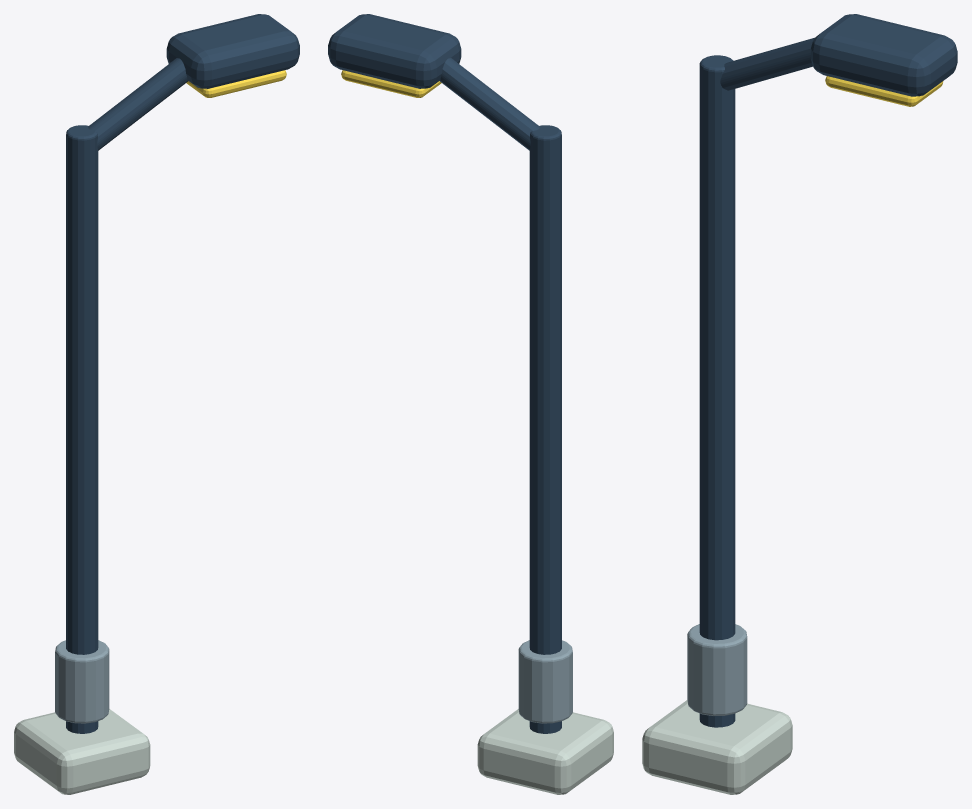
Rendered from SM_Streetlight.fbx.
The picture shows the model from 3 angles, left to right: view 1: azimuth 30°, elevation 25°; view 2: azimuth 150°, elevation 25°; view 3: azimuth 330°, elevation 25°; orthographic projection. The views are drawn at different scales.
Parts seen in each view (by area): view 1: Lamp post, Lamp base, Lamp housing, Post collar, Curved lamp arm, Warm lamp diffuser; view 2: Lamp post, Lamp base, Lamp housing, Post collar, Curved lamp arm, Warm lamp diffuser; view 3: Lamp post, Lamp base, Lamp housing, Post collar, Curved lamp arm, Warm lamp diffuser.
Boxes of the visible parts, x1,y1,x2,y2 form: Lamp post: [66, 125, 98, 733]; Lamp base: [14, 709, 150, 794]; Lamp housing: [166, 14, 299, 88]; Post collar: [55, 640, 109, 723]; Curved lamp arm: [88, 58, 188, 150]; Warm lamp diffuser: [186, 70, 286, 97]; Lamp post: [529, 125, 561, 733]; Lamp base: [477, 709, 613, 794]; Lamp housing: [328, 14, 461, 88]; Post collar: [518, 640, 572, 723]; Curved lamp arm: [439, 58, 539, 150]; Warm lamp diffuser: [341, 70, 441, 97]; Lamp post: [699, 55, 735, 727]; Lamp base: [642, 700, 792, 794]; Lamp housing: [811, 14, 957, 96]; Post collar: [687, 624, 747, 715]; Curved lamp arm: [720, 37, 814, 90]; Warm lamp diffuser: [825, 76, 943, 106].
Bounding box in the file's own units: 1.69 × 4.52 × 0.62.
